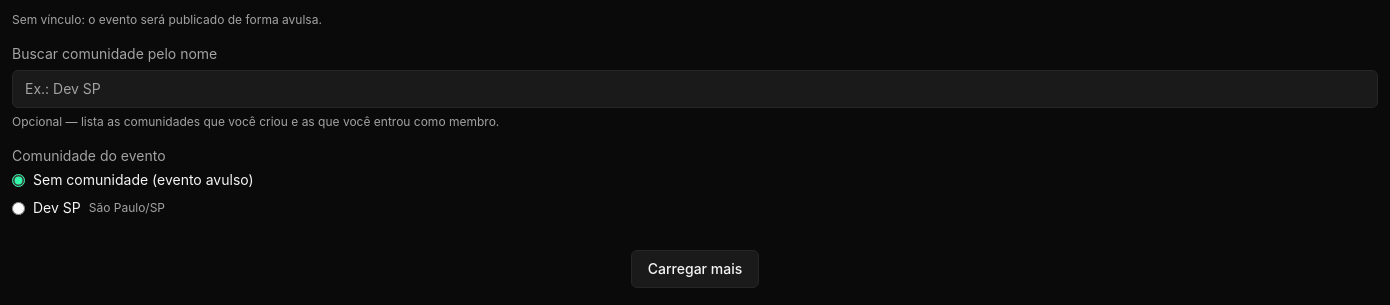
Test: CommunityPicker › Carregar mais busca a próxima página e faz append
Expected: the radio button labelled "Dev SP São Paulo/SP" is shown, [12,202,25,214]
Click the button "Carregar mais": x=695, y=269 [631,250,759,288]
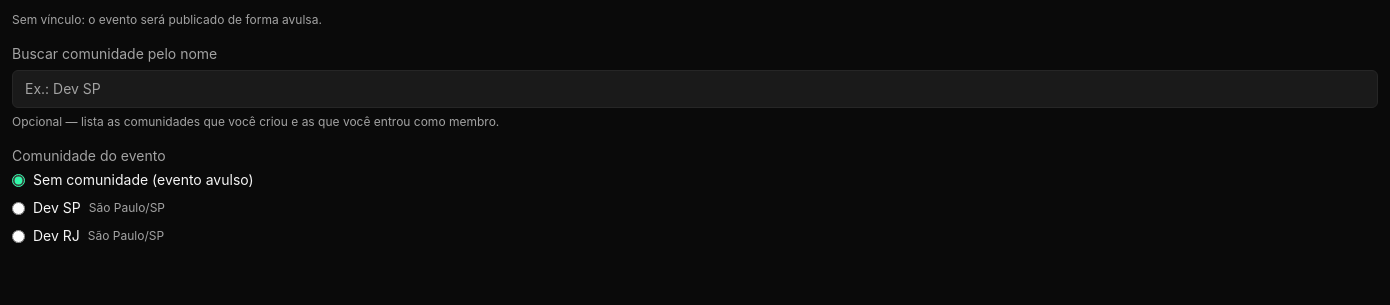
Expected: the radio button labelled "Dev RJ São Paulo/SP" is shown, [12,230,25,242]
